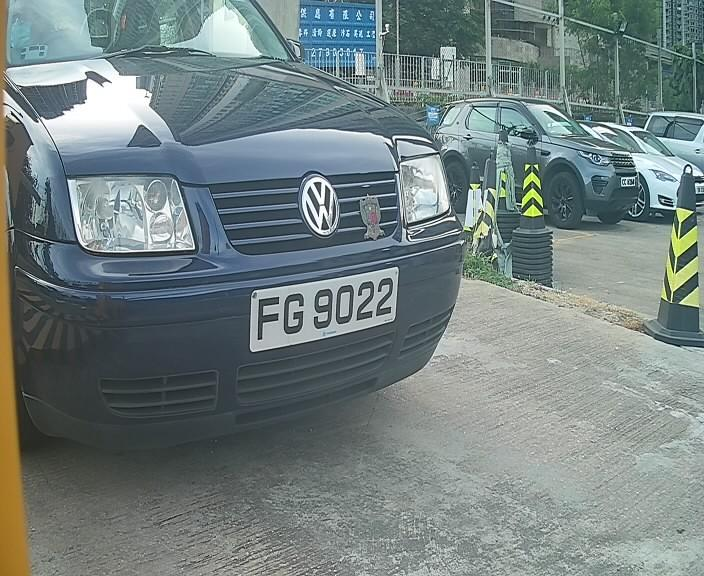privatecar: (7, 11, 475, 435)
